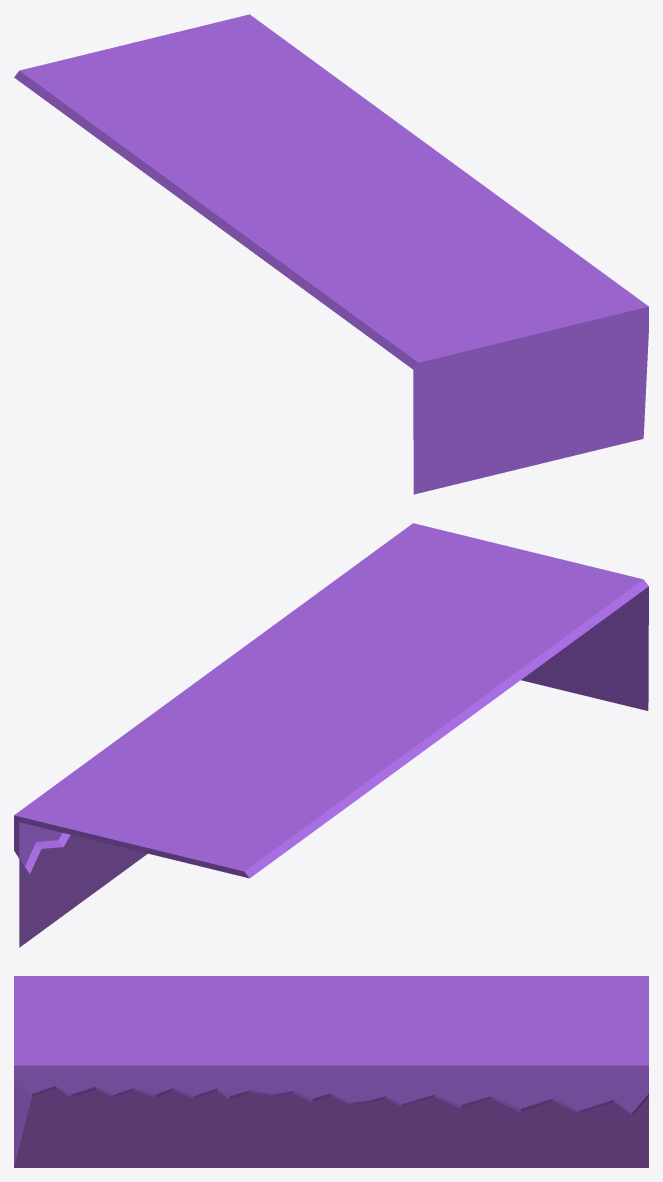
Rendered from normalPathLeftEnd.fbx.
3 renders of one model, top to bottom at view 1: azimuth 30°, elevation 25°; view 2: azimuth 150°, elevation 25°; view 3: azimuth 270°, elevation 25°, orthographic. The views are drawn at different scales.
Parts seen in each view (by area): view 1: Cube; view 2: Cube; view 3: Cube.
Part boxes in pixels (bbox=[...]): Cube: bbox=[14, 14, 648, 494]; Cube: bbox=[14, 523, 648, 947]; Cube: bbox=[14, 976, 648, 1167].
Bounding box in the file's own units: 208 × 109 × 600.
